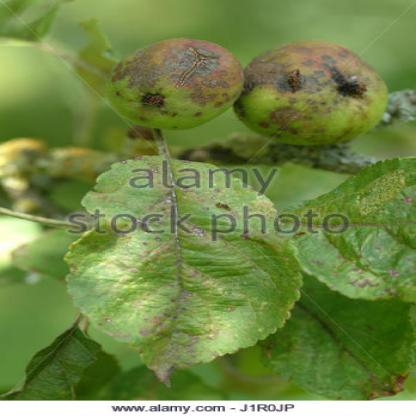apple scab leaf: (65, 152, 314, 384), (273, 161, 415, 287)
